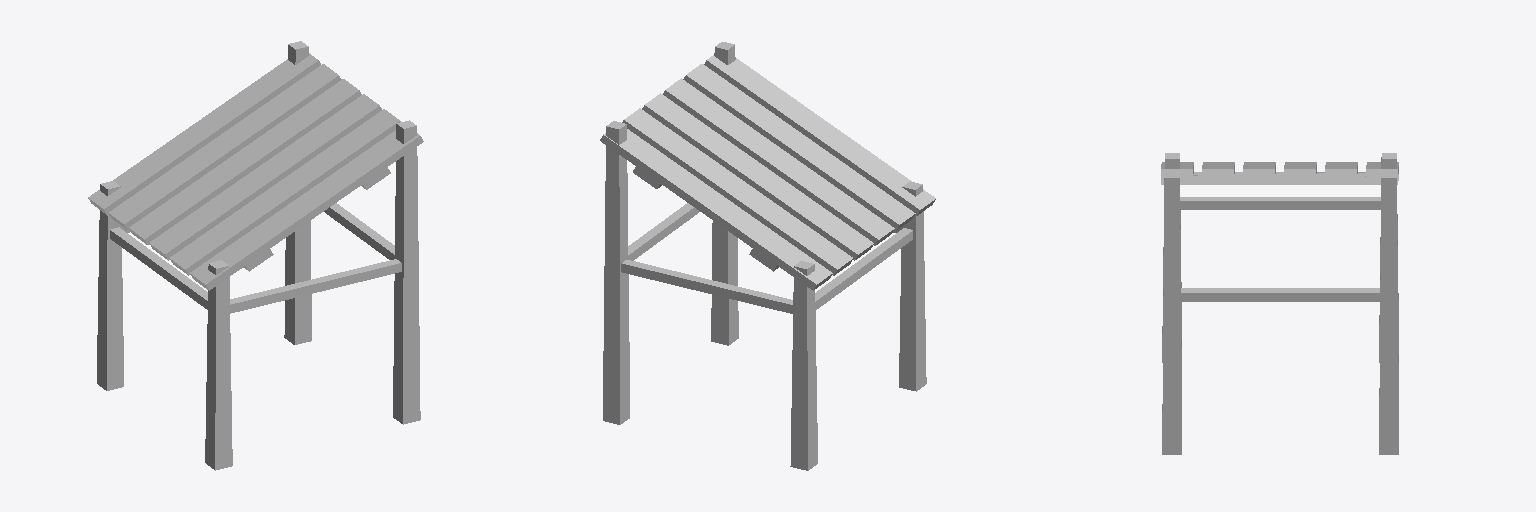
File: structureRoof.obj
3 views of the same model, side by side, from view 1: azimuth 30°, elevation 25°; view 2: azimuth 150°, elevation 25°; view 3: azimuth 270°, elevation 25° (orthographic).
Parts seen in each view (by area): view 1: structureRoof; view 2: structureRoof; view 3: structureRoof.
Boxes of the visible parts, x1=… form: structureRoof: x1=88, y1=41, x2=423, y2=470; structureRoof: x1=600, y1=42, x2=935, y2=470; structureRoof: x1=1161, y1=153, x2=1398, y2=454.
Size of the model in its own units: 0.5328 by 0.6845 by 0.503.